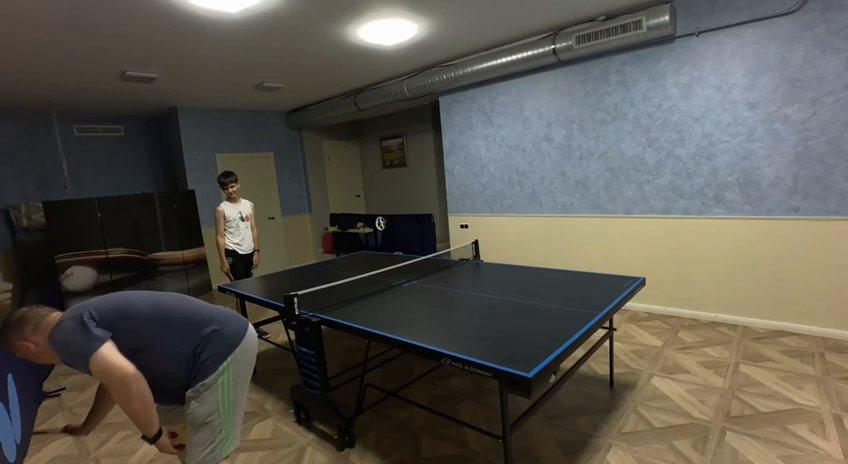Net: (280, 240, 481, 321)
Player1: (215, 170, 258, 280)
Player2: (4, 290, 257, 463)
Table: (219, 252, 645, 374)
